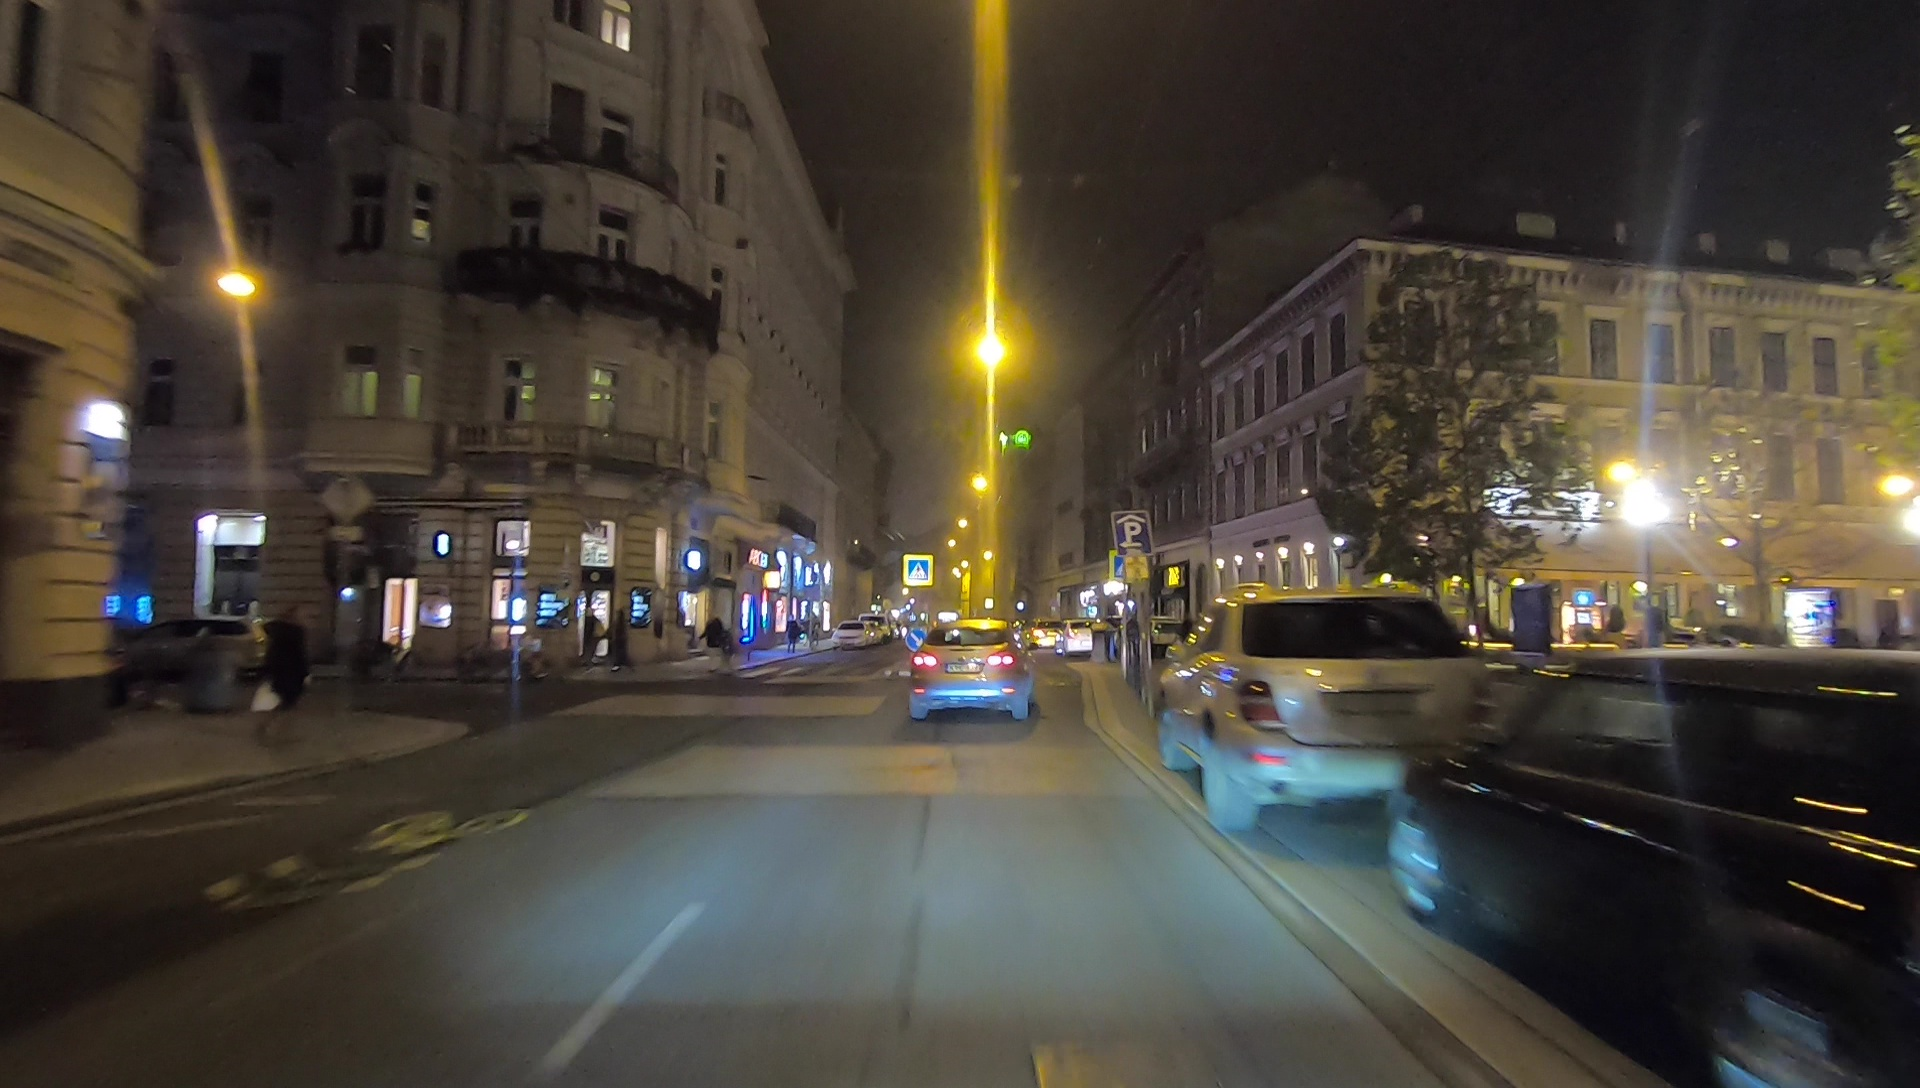person: (256, 604, 306, 737), (708, 615, 725, 673), (786, 617, 799, 650)
